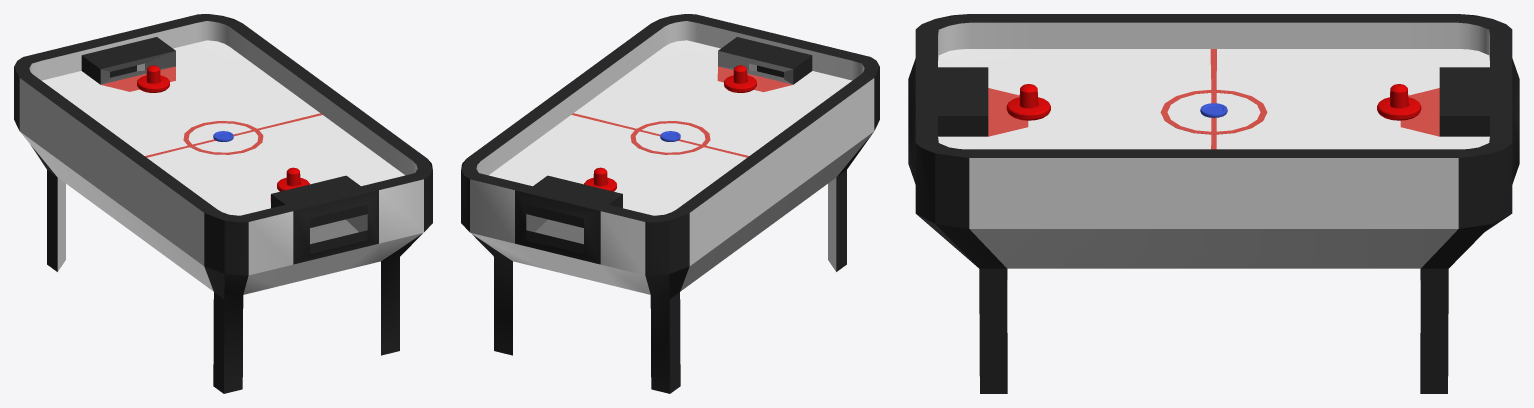
File: air_hockey_cabinet.glb
3 views of the same model, side by side, from view 1: azimuth 30°, elevation 25°; view 2: azimuth 150°, elevation 25°; view 3: azimuth 270°, elevation 25° (orthographic). The views are drawn at different scales.
Visible parts, largest first — view 1: cabinet_0, paddle2_3, paddle1_2; view 2: cabinet_0, paddle1_2, paddle2_3; view 3: cabinet_0, paddle1_2, paddle2_3.
Boxes of the visible parts, <box> form: cabinet_0: <box>14,14,432,393</box>; paddle2_3: <box>137,65,169,92</box>; paddle1_2: <box>277,167,309,191</box>; cabinet_0: <box>461,14,879,393</box>; paddle1_2: <box>724,65,756,92</box>; paddle2_3: <box>584,167,616,191</box>; cabinet_0: <box>908,14,1519,393</box>; paddle1_2: <box>1006,84,1050,120</box>; paddle2_3: <box>1377,84,1421,120</box>.
Bounding box in the file's own units: 15.96 × 12.98 × 28.61.
